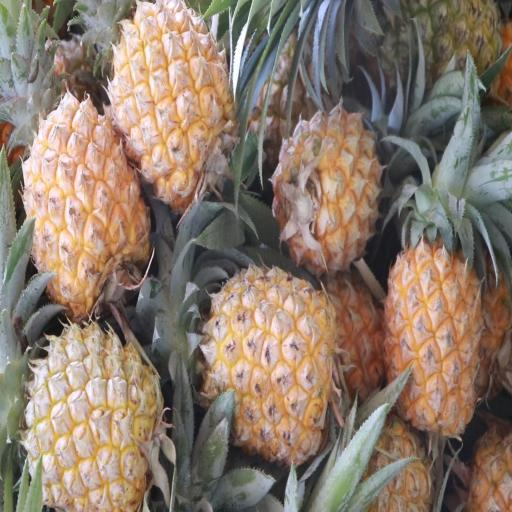Pineapple - v8 v1: (26, 102, 150, 314), (29, 321, 163, 512), (108, 3, 235, 198), (207, 272, 337, 460), (386, 232, 484, 433), (275, 109, 381, 273)
